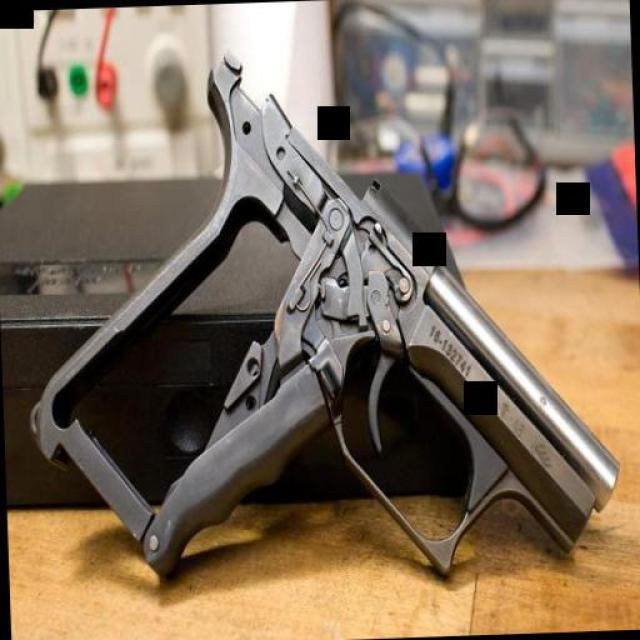gun: (9, 16, 624, 608)
